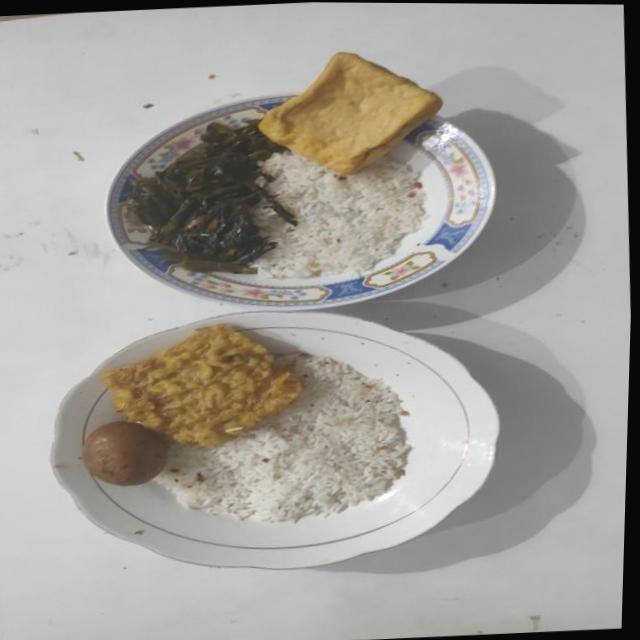nasi_putih: (158, 353, 412, 523), (252, 153, 428, 280)
tahu_goreng: (258, 52, 442, 176)
tumis_kangkung: (126, 120, 298, 274)
